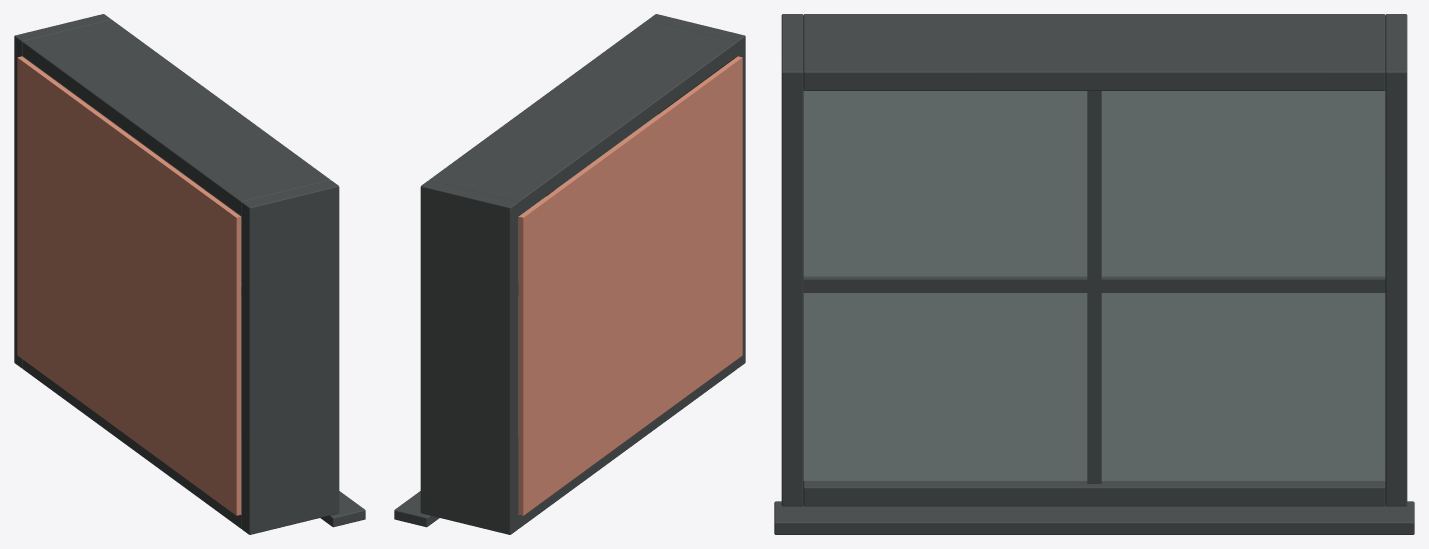
File: window_brick.glb
The picture shows the model from 3 angles, left to right: view 1: azimuth 30°, elevation 25°; view 2: azimuth 150°, elevation 25°; view 3: azimuth 270°, elevation 25°; orthographic projection. The views are drawn at different scales.
Parts seen in each view (by area): view 1: ziegel, rahmen-0.8600000000000001-0.6599999999999999, rahmen-0.80.6, rahmen-0.8-0.6599999999999999, rahmen0.8-0.6599999999999999, bank; view 2: ziegel, rahmen0.8-0.6599999999999999, rahmen-0.80.6, rahmen-0.8-0.6599999999999999, rahmen-0.8600000000000001-0.6599999999999999, bank; view 3: glas, rahmen-0.80.6, bank, rahmen-0.8-0.6599999999999999, rahmen-0.8600000000000001-0.6599999999999999, rahmen0.8-0.6599999999999999, sprosse_h, sprosse_v.
Part boxes in pixels (x1,y1,x2,y2): ziegel: [17, 56, 241, 515]; rahmen-0.8600000000000001-0.6599999999999999: [241, 180, 339, 534]; rahmen-0.80.6: [22, 20, 330, 215]; rahmen-0.8-0.6599999999999999: [22, 359, 241, 528]; rahmen0.8-0.6599999999999999: [14, 14, 111, 368]; bank: [320, 491, 365, 527]; ziegel: [518, 56, 742, 515]; rahmen0.8-0.6599999999999999: [420, 180, 518, 534]; rahmen-0.80.6: [429, 20, 737, 215]; rahmen-0.8-0.6599999999999999: [518, 359, 737, 528]; rahmen-0.8600000000000001-0.6599999999999999: [648, 14, 745, 368]; bank: [394, 491, 439, 527]; glas: [803, 90, 1385, 480]; rahmen-0.80.6: [803, 14, 1385, 90]; bank: [774, 501, 1414, 534]; rahmen-0.8-0.6599999999999999: [803, 481, 1385, 506]; rahmen-0.8600000000000001-0.6599999999999999: [781, 14, 803, 506]; rahmen0.8-0.6599999999999999: [1385, 14, 1407, 506]; sprosse_h: [803, 276, 1385, 292]; sprosse_v: [1087, 91, 1101, 483].
Size of the model in its own units: 0.5 by 1.36 by 1.76.
